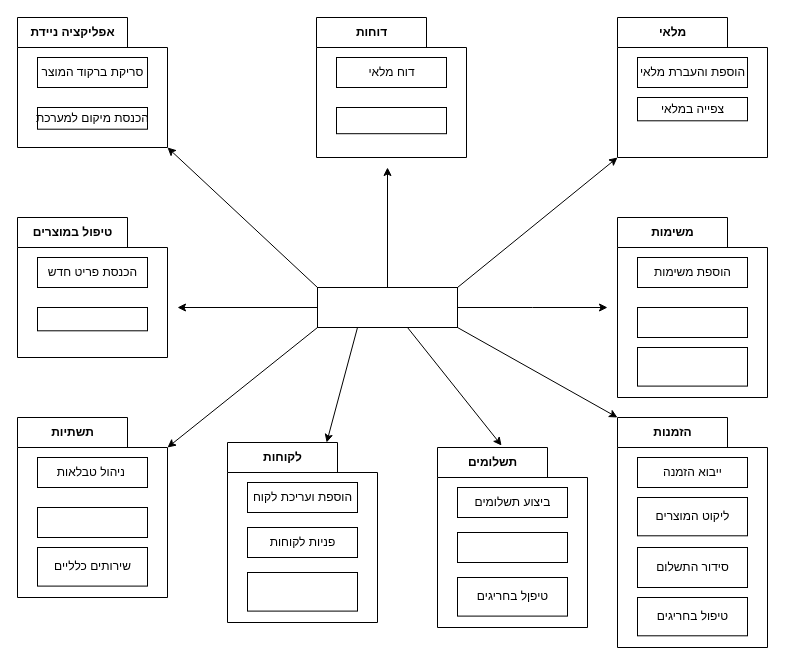
The diagram is 785 pixels wide and 665 high, and some of its shapes have lost their labels. Each missing label, with the centre of its shape:
"ביצוע זיכויים" belongs at point (512, 547).
"דוח פניות לקוחות" belongs at point (391, 120).
"הוספת הערות" belongs at point (692, 366).
"הזמנות ותשלומי לקוח" belongs at point (302, 591).
"הטבלאות במערכת" belongs at point (92, 522).
"המערכת" belongs at point (387, 307).
"שינוי משימות קיימות" belongs at point (692, 322).
"שינוי פרטי פריט" belongs at point (92, 318).
